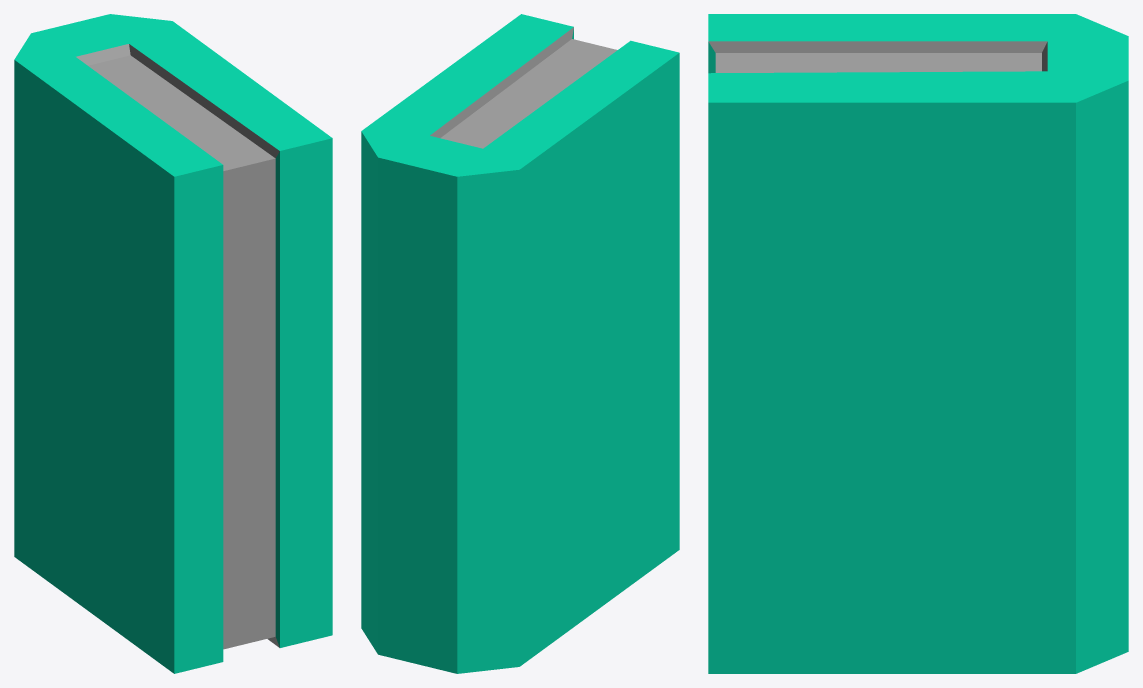
File: book.fbx
3 renders of one model, left to right at view 1: azimuth 30°, elevation 25°; view 2: azimuth 150°, elevation 25°; view 3: azimuth 270°, elevation 25°, orthographic. The views are drawn at different scales.
Visible parts, largest first — view 1: pCube2; view 2: pCube2; view 3: pCube2.
Boxes of the visible parts, x1,y1,x2,y2 form: pCube2: [14, 14, 332, 673]; pCube2: [361, 14, 679, 673]; pCube2: [708, 14, 1128, 673].
Bounding box in the file's own units: 0.5 × 1.5 × 1.
